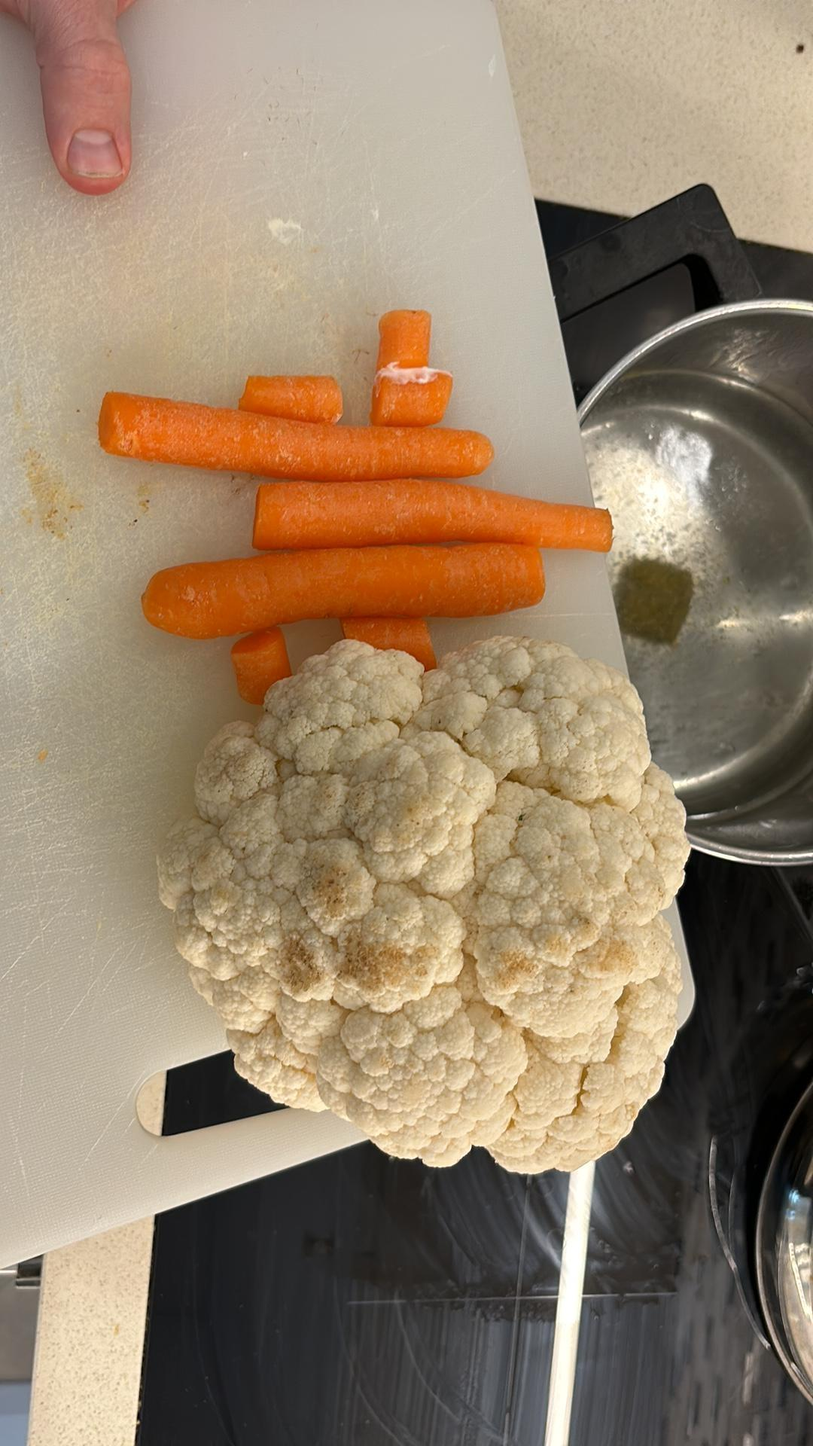carrot: (95, 390, 492, 483), (143, 542, 545, 616), (254, 484, 613, 557), (370, 365, 464, 423), (345, 617, 442, 671), (244, 375, 342, 423), (381, 302, 434, 368), (234, 634, 285, 696)
cauliflower: (154, 631, 684, 1179)
